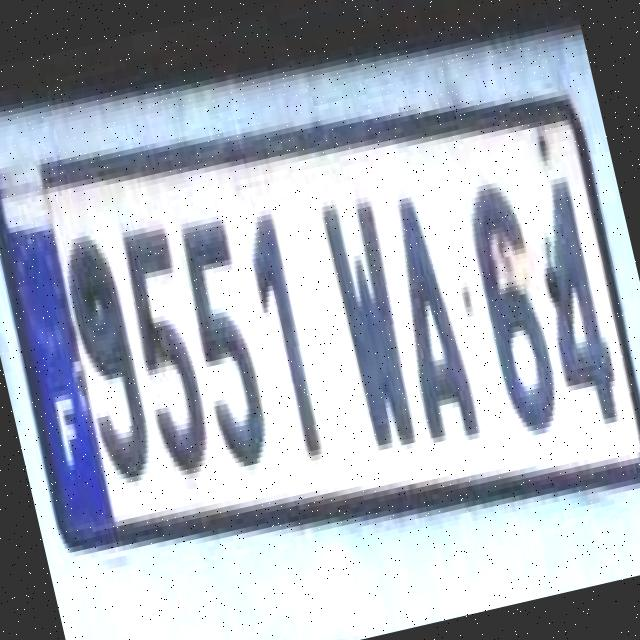EU: (0, 109, 640, 534)
France: (0, 164, 116, 534)
